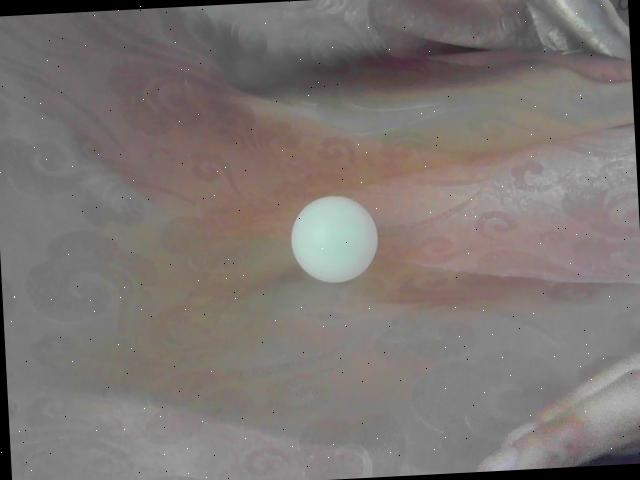ball: (288, 194, 381, 284)
